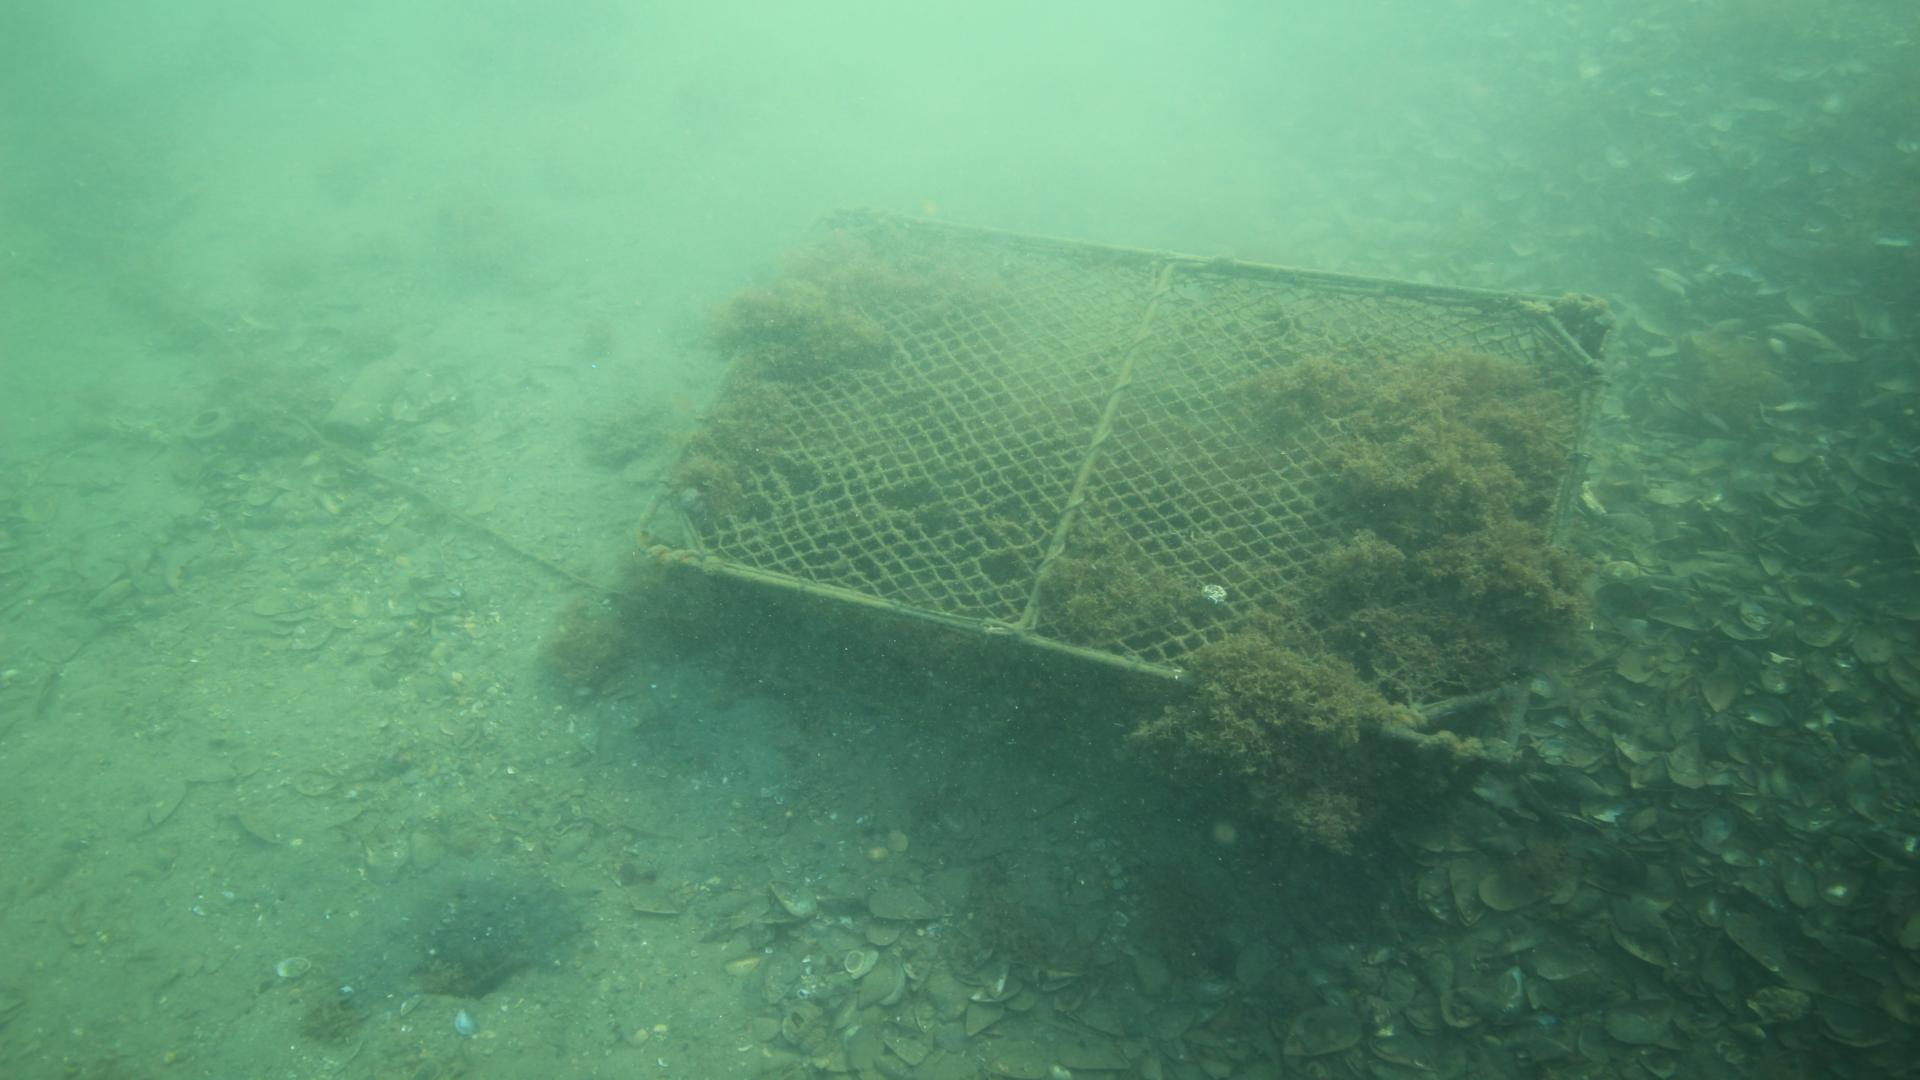rectangular fish trap: (633, 211, 1614, 833)
